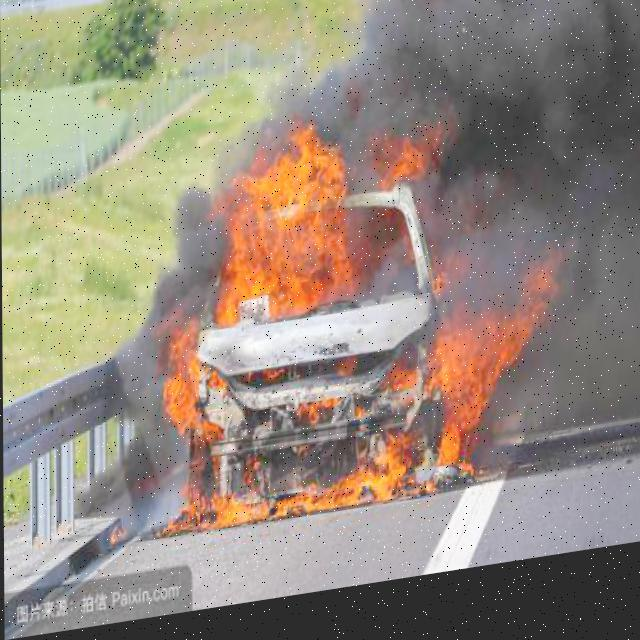Fire: (158, 98, 551, 536)
